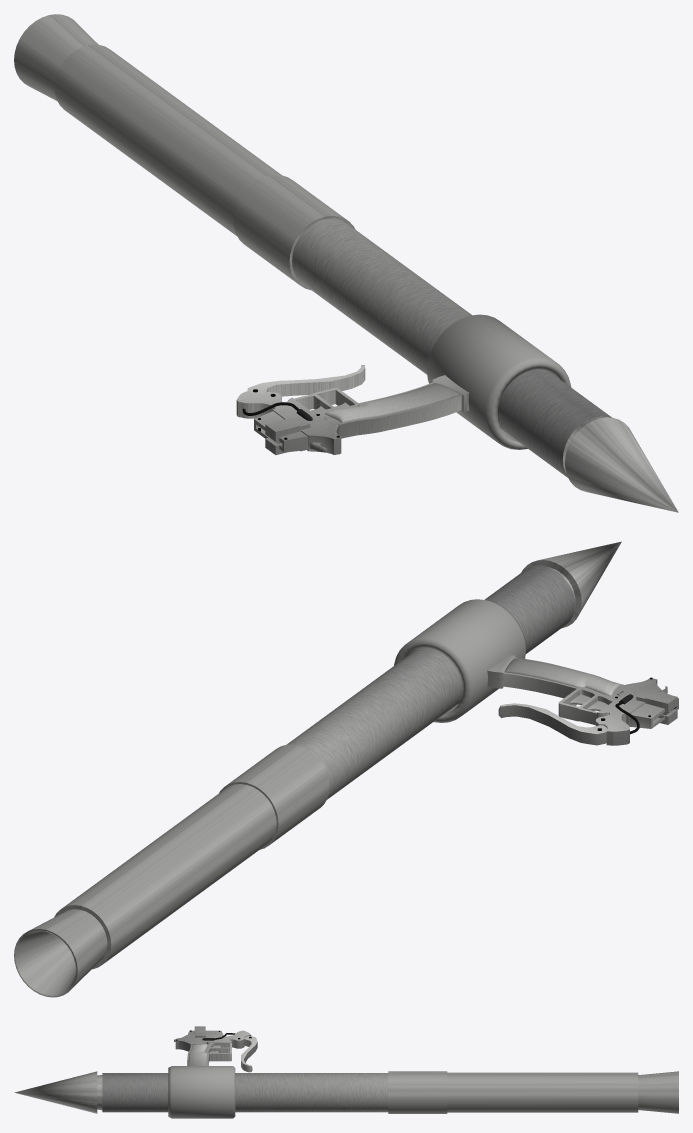
File: AOT-SPEAR.fbx
3 views of the same model, one above another, from view 1: azimuth 30°, elevation 25°; view 2: azimuth 150°, elevation 25°; view 3: azimuth 270°, elevation 25° (orthographic). The views are drawn at different scales.
Parts seen in each view (by area): view 1: Cylinder, Object_3; view 2: Cylinder, Object_3; view 3: Cylinder, Object_3.
Part boxes in pixels (box(x1,y1,x2,y2)): Cylinder: box(14, 14, 678, 512); Object_3: box(236, 314, 571, 454); Cylinder: box(14, 541, 621, 997); Object_3: box(394, 599, 678, 745); Cylinder: box(14, 1071, 678, 1113); Object_3: box(168, 1026, 257, 1118).
Bounding box in the file's own units: 877 × 276 × 3491.
Materials: 5 (2 with a texture image).
